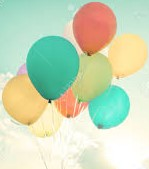Balloon: (26, 36, 79, 101), (72, 2, 116, 54), (2, 74, 46, 125), (86, 84, 130, 129), (109, 35, 147, 78)
